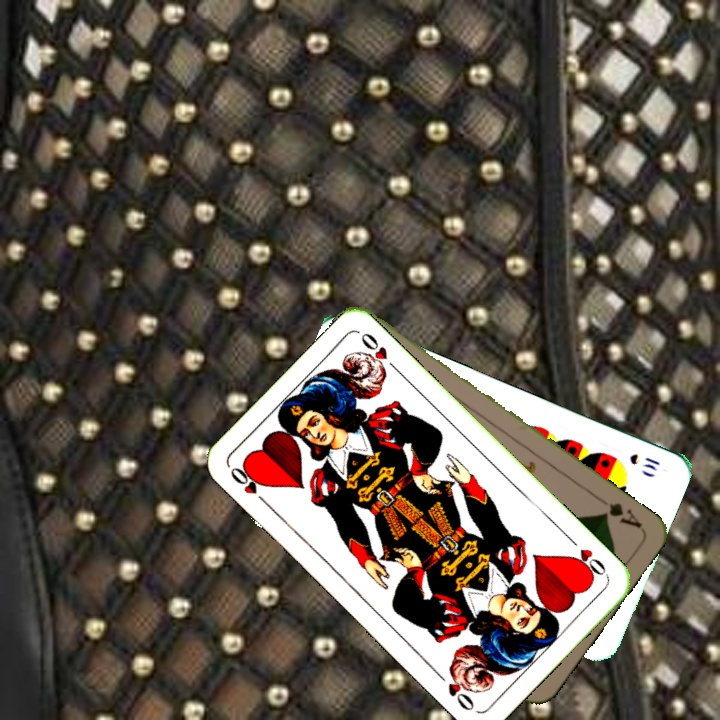GA: (592, 494, 645, 531)
HO: (564, 533, 610, 581), (226, 461, 272, 509)
S10: (625, 449, 663, 474)
